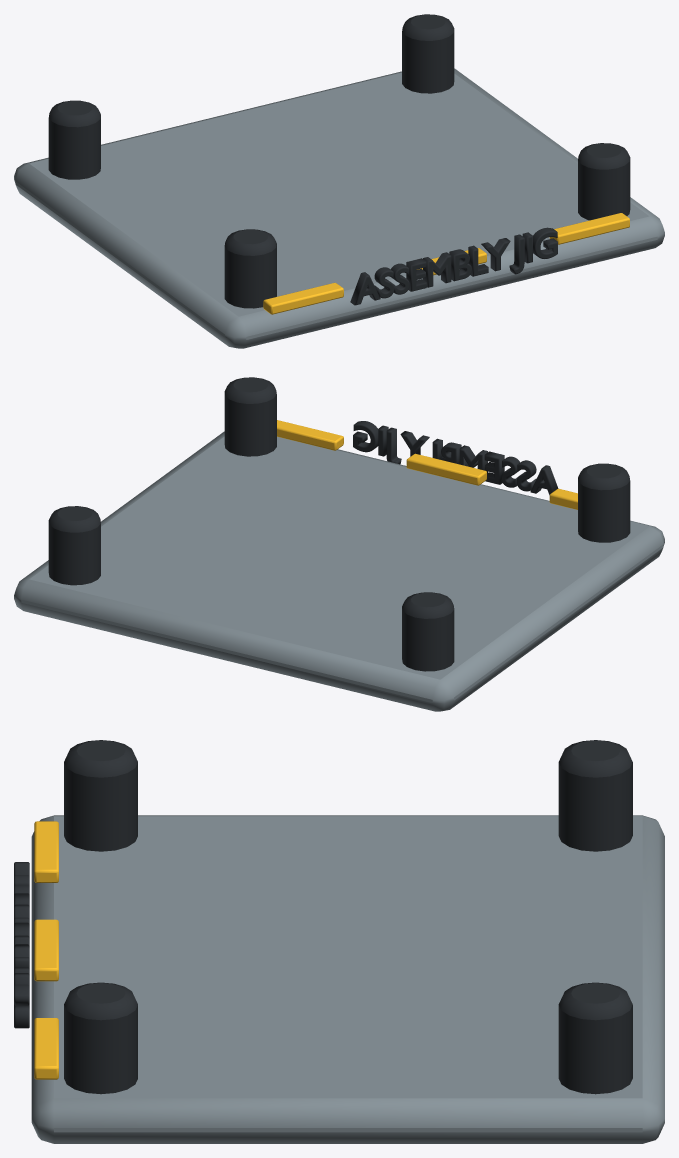
Rendered from 07_AssemblyJig.fbx.
The picture shows the model from 3 angles, top to bottom: view 1: azimuth 30°, elevation 25°; view 2: azimuth 150°, elevation 25°; view 3: azimuth 270°, elevation 25°; orthographic projection. The views are drawn at different scales.
Parts seen in each view (by area): view 1: Jig_Base, Jig_Text, Jig_Stop.001, Jig_Stop.003, Jig_Stop, Jig_Stop.002, Jig_Stripe_A, Jig_Stripe_C; view 2: Jig_Base, Jig_Text, Jig_Stop, Jig_Stop.001, Jig_Stop.002, Jig_Stop.003, Jig_Stripe_B, Jig_Stripe_C; view 3: Jig_Base, Jig_Stop.001, Jig_Stop.003, Jig_Stop.002, Jig_Stop, Jig_Text, Jig_Stripe_B, Jig_Stripe_A, Jig_Stripe_C.
Part boxes in pixels (x1,y1,x2,y2): Jig_Base: (14,68,664,348); Jig_Text: (350,227,557,305); Jig_Stop.001: (48,100,100,179); Jig_Stop.003: (402,14,454,93); Jig_Stop: (224,229,276,308); Jig_Stop.002: (578,143,630,220); Jig_Stripe_A: (263,282,343,314); Jig_Stripe_C: (549,213,629,244); Jig_Base: (14,431,664,711); Jig_Text: (353,421,558,494); Jig_Stop: (578,463,630,542); Jig_Stop.001: (402,592,454,671); Jig_Stop.002: (224,377,276,456); Jig_Stop.003: (48,506,100,585); Jig_Stripe_B: (406,453,486,485); Jig_Stripe_C: (277,420,343,450); Jig_Base: (31,815,664,1143); Jig_Stop.001: (558,740,632,851); Jig_Stop.003: (558,982,632,1094); Jig_Stop.002: (64,982,137,1094); Jig_Stop: (64,740,137,851); Jig_Text: (14,862,29,1028); Jig_Stripe_B: (34,919,58,981); Jig_Stripe_A: (34,821,58,882); Jig_Stripe_C: (34,1018,58,1079).
Bounding box in the file's own units: 144 × 29 × 132.
